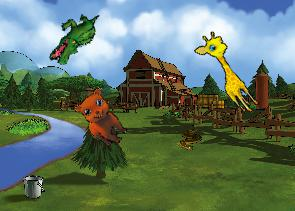bear: (68, 83, 138, 151)
crocodile: (47, 4, 101, 72)
giraffe: (190, 27, 269, 117)
